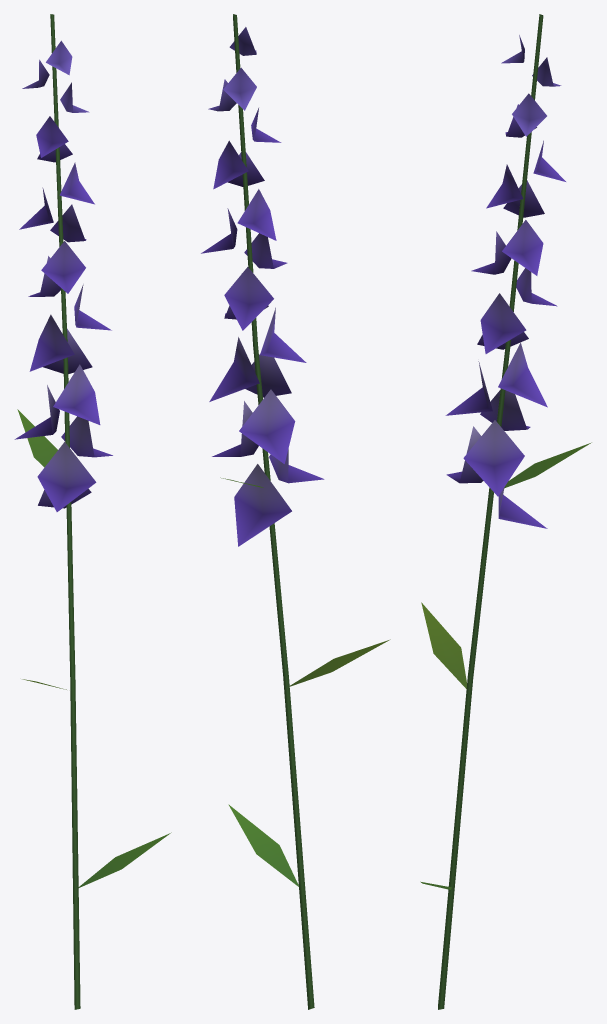
The model's file is flower-lupine-a.lod1.glb.
3 views of the same model, side by side, from view 1: azimuth 30°, elevation 25°; view 2: azimuth 150°, elevation 25°; view 3: azimuth 270°, elevation 25° (orthographic). The views are drawn at different scales.
Visible parts, largest first — view 1: flower-lupine-a.lod1; view 2: flower-lupine-a.lod1; view 3: flower-lupine-a.lod1.
Part boxes in pixels (left/top/right/bottom): flower-lupine-a.lod1: left=14, top=14, right=171, bottom=1009; flower-lupine-a.lod1: left=201, top=14, right=390, bottom=1009; flower-lupine-a.lod1: left=420, top=14, right=591, bottom=1009.
Bounding box in the file's own units: 0.124 × 0.7405 × 0.1152.
